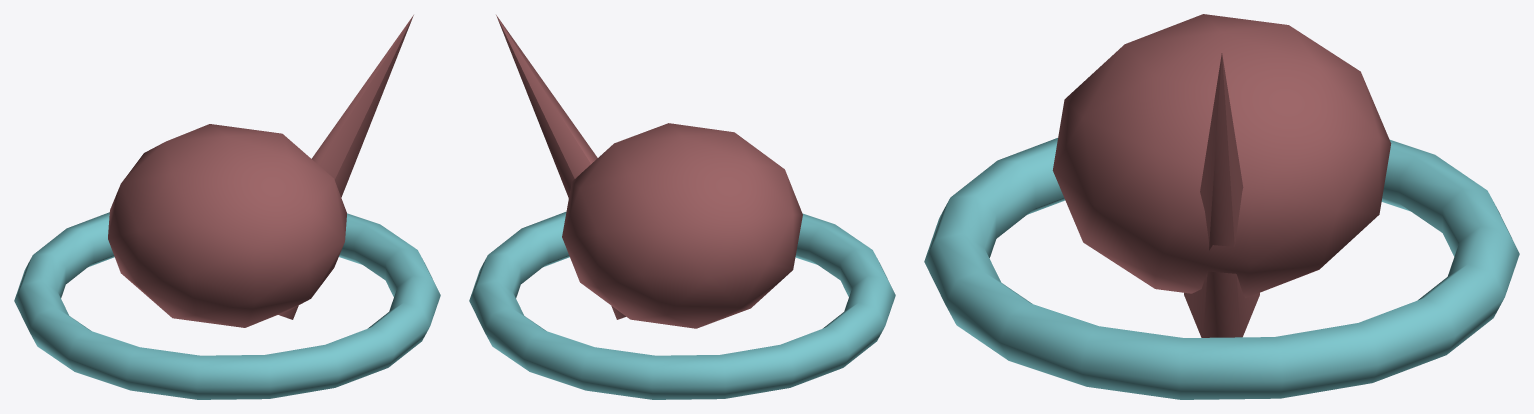
Rendered from wpn_r_02.glb.
The picture shows the model from 3 angles, left to right: view 1: azimuth 30°, elevation 25°; view 2: azimuth 150°, elevation 25°; view 3: azimuth 270°, elevation 25°; orthographic projection. The views are drawn at different scales.
Visible parts, largest first — view 1: impact_core, impact_ring, impact_ray; view 2: impact_core, impact_ring, impact_ray; view 3: impact_core, impact_ring, impact_ray.
Part boxes in pixels (<box>): impact_core: <box>108,124,346,327</box>; impact_ring: <box>14,212,440,399</box>; impact_ray: <box>278,15,413,319</box>; impact_core: <box>562,123,802,328</box>; impact_ring: <box>469,212,895,399</box>; impact_ray: <box>496,15,625,319</box>; impact_core: <box>1052,14,1391,297</box>; impact_ring: <box>924,138,1519,399</box>; impact_ray: <box>1184,53,1259,337</box>.
Bounding box in the file's own units: 0.7501 × 0.5231 × 0.7496.
